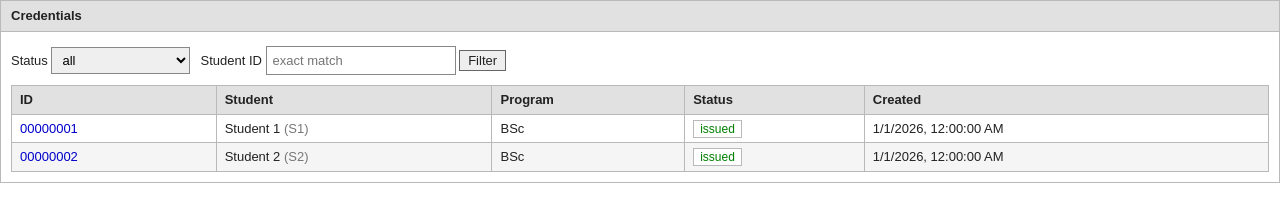
Test: lists that arrive a page at a time › filters by student id and starts again from the first page
expect the text "Student 1" is shown: met, box [225, 120, 280, 136]
Type "S2" into the field labelled "Student ID" at point(360, 60), box [266, 46, 456, 75]
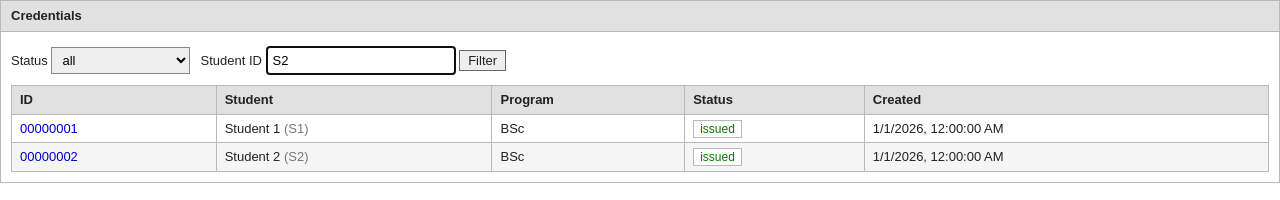
Click the button "Filter" at point(483, 60), box [459, 50, 506, 71]
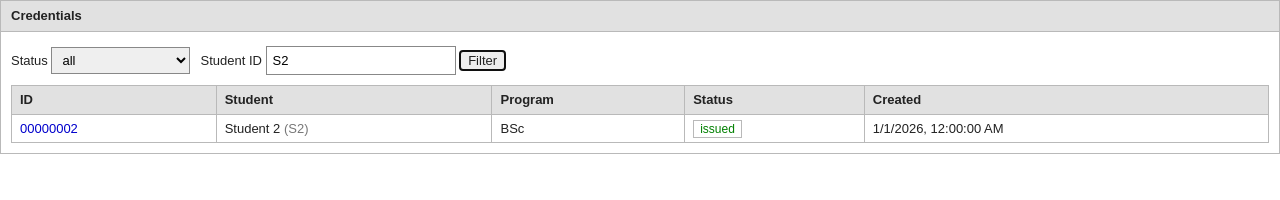
expect the text "Student 1" is gone: met
